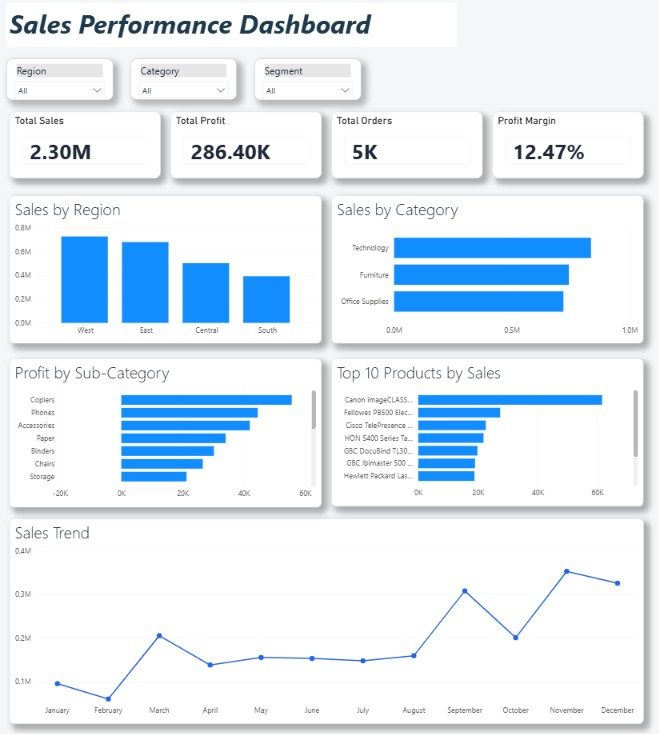

Layout of this report page (visuals, bound fields, positions):
{"tool":"powerbi","page":{"name":"Executive Dashboard","canvas":[1100,1230],"ordinal":0},"visuals":[{"type":"cardVisual","title":"Total Sales","fields":{"Data":["Sample - Superstore.Total Sales"]},"box":[25,195,250,110],"z":0},{"type":"cardVisual","title":"Total Profit","fields":{"Data":["Sample - Superstore.Total Profit"]},"box":[291.7,195,250,110],"z":1000},{"type":"cardVisual","title":"Total Orders","fields":{"Data":["Sample - Superstore.Total Orders"]},"box":[558.3,195,250,110],"z":2000},{"type":"lineChart","title":"Sales Trend","fields":{"Category":["Sample - Superstore.Order Date.Variation.Date Hierarchy.Month"],"Y":["Sum(Sample - Superstore.Sales)"]},"box":[25,870,1050,340],"z":3000},{"type":"clusteredBarChart","title":"Sales by Category","fields":{"Category":["Sample - Superstore.Category"],"Y":["Sum(Sample - Superstore.Sales)"]},"box":[558,334,517,245],"z":4000},{"type":"clusteredColumnChart","title":"Sales by Region","fields":{"Category":["Sample - Superstore.Region"],"Y":["Sum(Sample - Superstore.Sales)"]},"box":[25,334,517,245],"z":5000},{"type":"clusteredBarChart","title":"Profit by Sub-Category","fields":{"Category":["Sample - Superstore.Sub-Category"],"Y":["Sum(Sample - Superstore.Profit)"]},"box":[25,604,517,246],"z":6000},{"type":"clusteredBarChart","title":"Top 10 Products by Sales","fields":{"Category":["Sample - Superstore.Product Name"],"Y":["Sum(Sample - Superstore.Sales)"]},"box":[558,605,517,245],"z":7000},{"type":"slicer","fields":{"Values":["Sample - Superstore.Region"]},"box":[20,107.7,176.7,68.9],"z":8000},{"type":"slicer","fields":{"Values":["Sample - Superstore.Segment"]},"box":[431,107.7,176.7,68.9],"z":9000},{"type":"slicer","fields":{"Values":["Sample - Superstore.Category"]},"box":[225.8,107.7,176,68],"z":10000},{"type":"textbox","title":"Sales Performance Dashboardm","box":[20,15,746.2,73.8],"z":11000},{"type":"cardVisual","title":"Profit Margin","fields":{"Data":["Sample - Superstore.Profit Margin"]},"box":[825,195,250,110],"z":12000}]}

Visuals, with their boxes in screenshot pixels (x1, y1, x2, y2), scaled from the page's 1100x1230 canvas onto the 659x734 screenshot:
"Total Sales" cardVisual: 15,116,165,182
"Total Profit" cardVisual: 175,116,325,182
"Total Orders" cardVisual: 334,116,484,182
"Sales Trend" lineChart: 15,519,644,722
"Sales by Category" clusteredBarChart: 334,199,644,346
"Sales by Region" clusteredColumnChart: 15,199,325,346
"Profit by Sub-Category" clusteredBarChart: 15,360,325,507
"Top 10 Products by Sales" clusteredBarChart: 334,361,644,507
slicer - Sample - Superstore.Region: 12,64,118,105
slicer - Sample - Superstore.Segment: 258,64,364,105
slicer - Sample - Superstore.Category: 135,64,241,105
"Sales Performance Dashboardm" textbox: 12,9,459,53
"Profit Margin" cardVisual: 494,116,644,182
